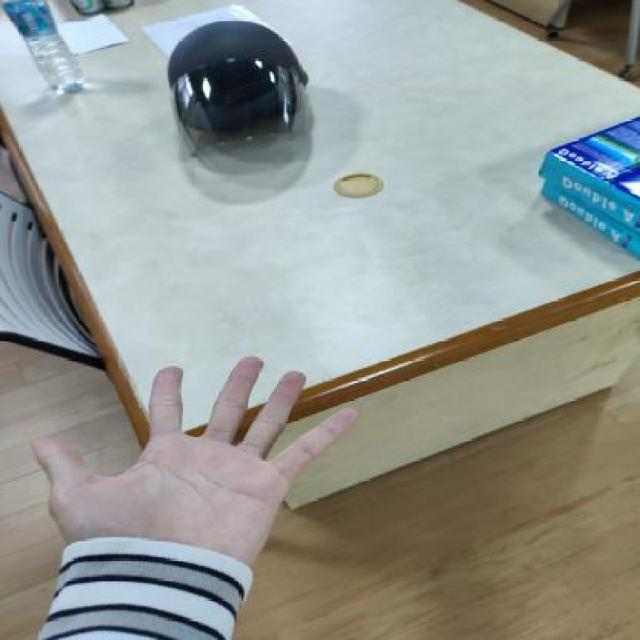bare_hand: (15, 342, 374, 595)
